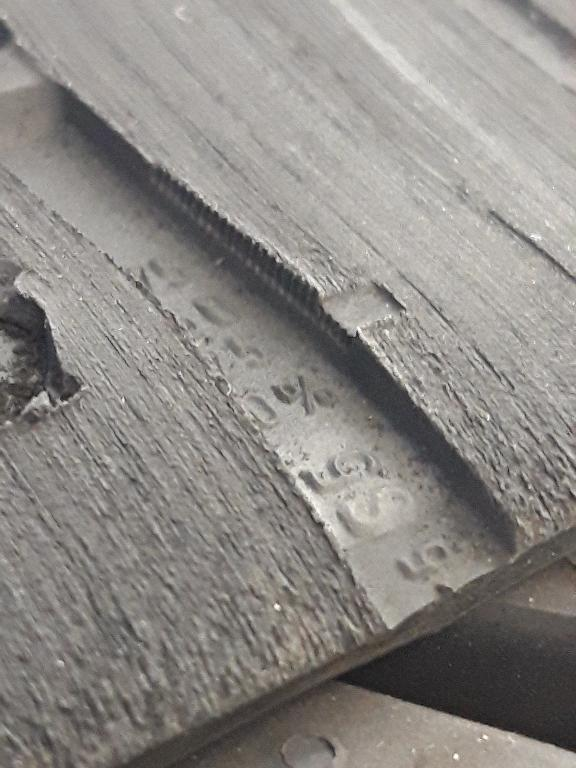temoin:0: (291, 252, 418, 359)
